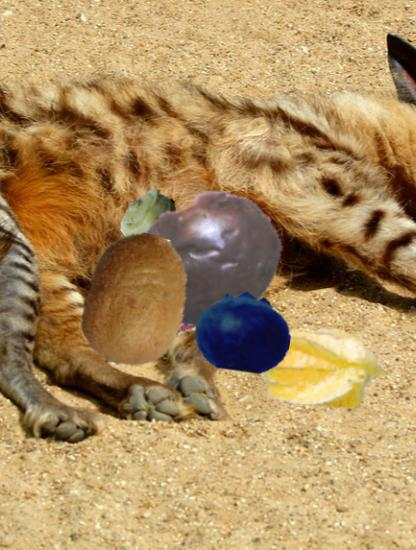Huckleberry: (196, 284, 292, 380)
Kiwi: (69, 233, 205, 369)
Kohlrabi: (120, 189, 181, 250)
Passion: (137, 183, 285, 331)
Physalis: (259, 302, 390, 433)
Pitahaya: (162, 280, 224, 342)
